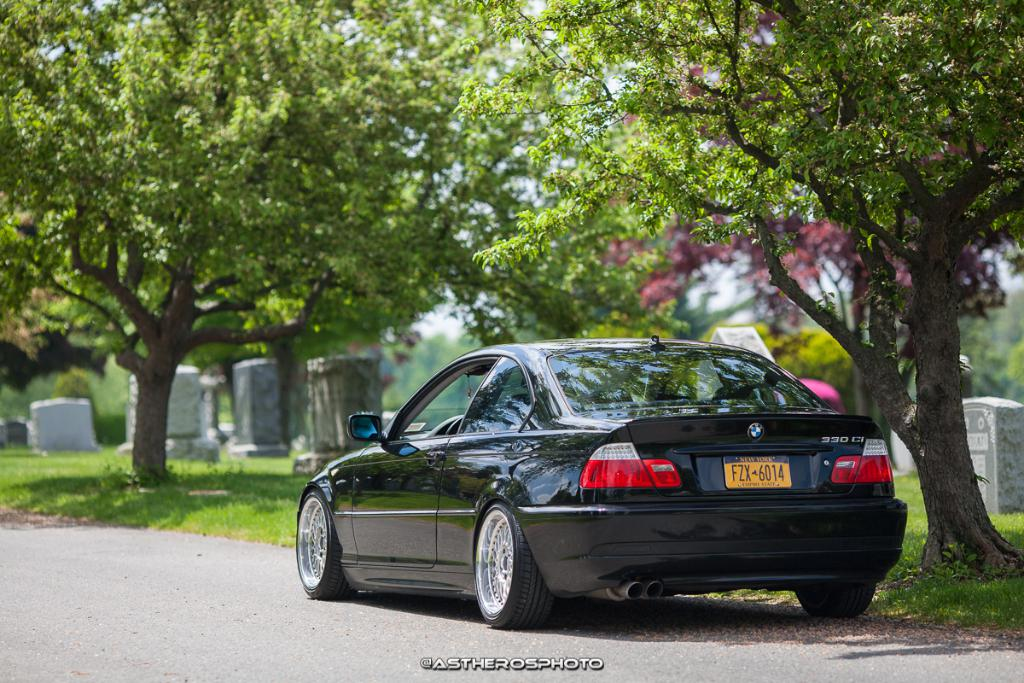Car: (291, 327, 910, 629)
